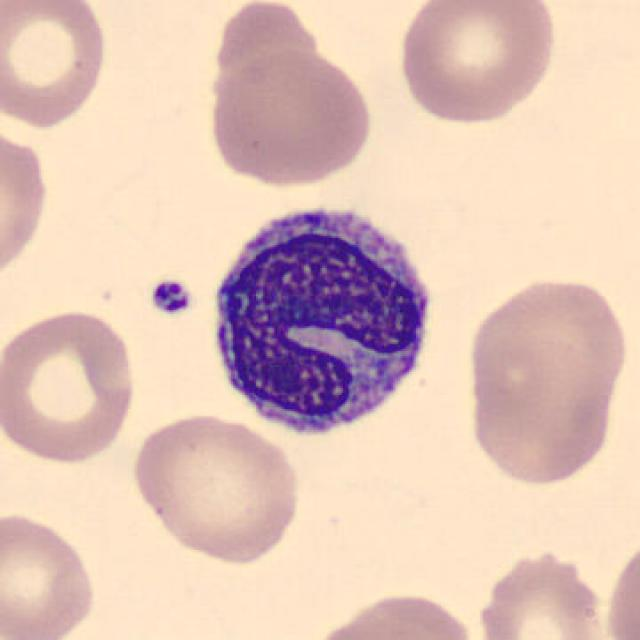Monocyte: (199, 187, 445, 451)
Platelets: (146, 275, 196, 317)
RBC: (460, 270, 633, 488), (203, 4, 377, 189), (126, 409, 306, 566), (0, 303, 142, 467), (393, 0, 562, 129), (0, 0, 112, 132), (473, 545, 619, 640), (0, 506, 101, 640), (0, 118, 55, 289), (311, 587, 482, 640), (602, 530, 640, 640)
